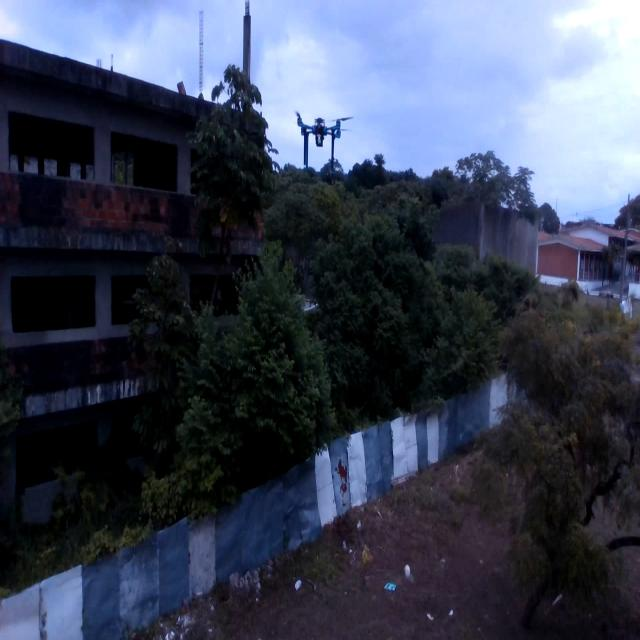-uav-: (284, 99, 354, 178)
